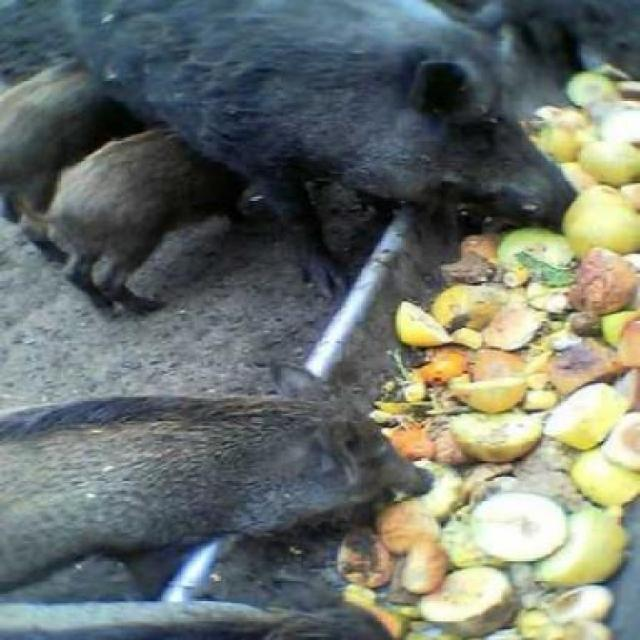Boar: (103, 0, 628, 274), (0, 304, 438, 586)
